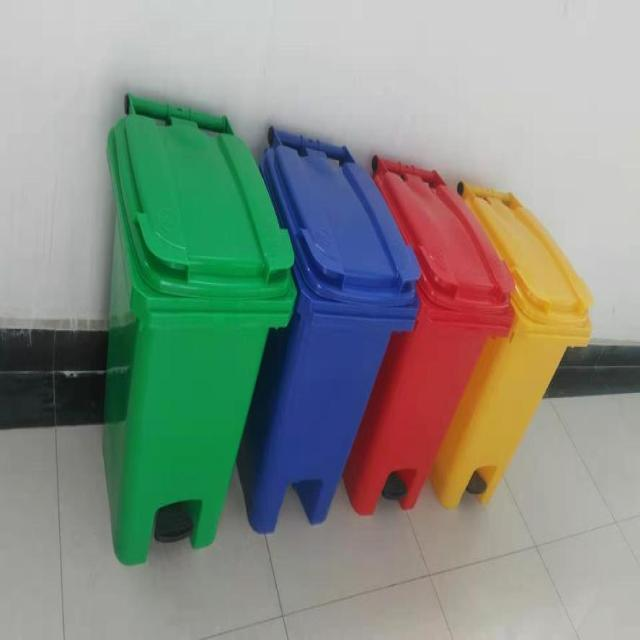garbage_bin: (104, 94, 295, 564), (240, 132, 420, 535), (342, 152, 514, 514), (430, 180, 592, 510)
